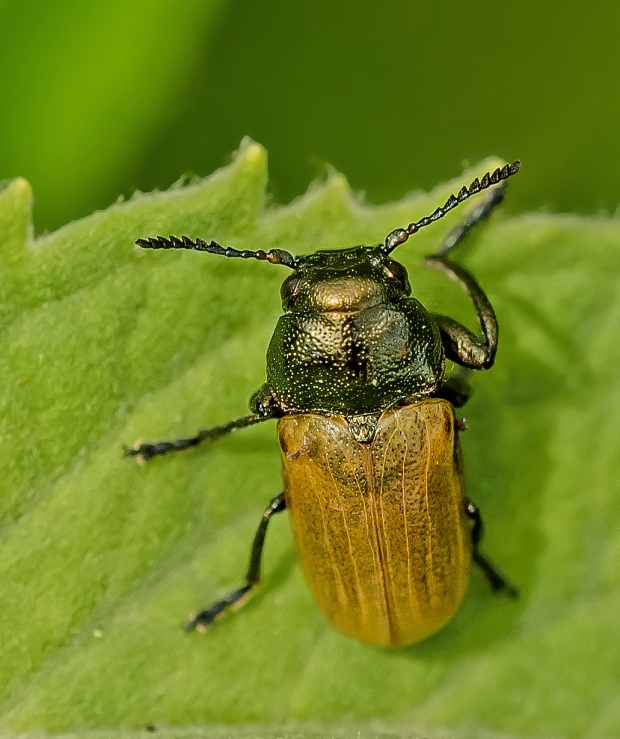Labidostomis_longimana: (103, 157, 543, 669)
